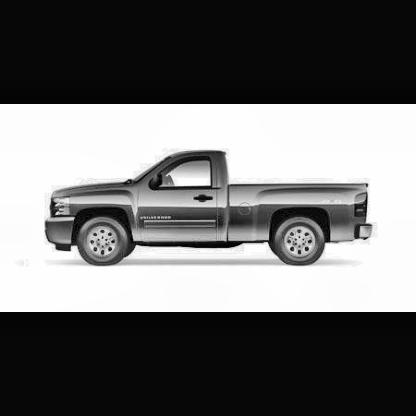Chevrolet Silverado 2500HD Regular Cab 2012: (45, 151, 374, 268)
